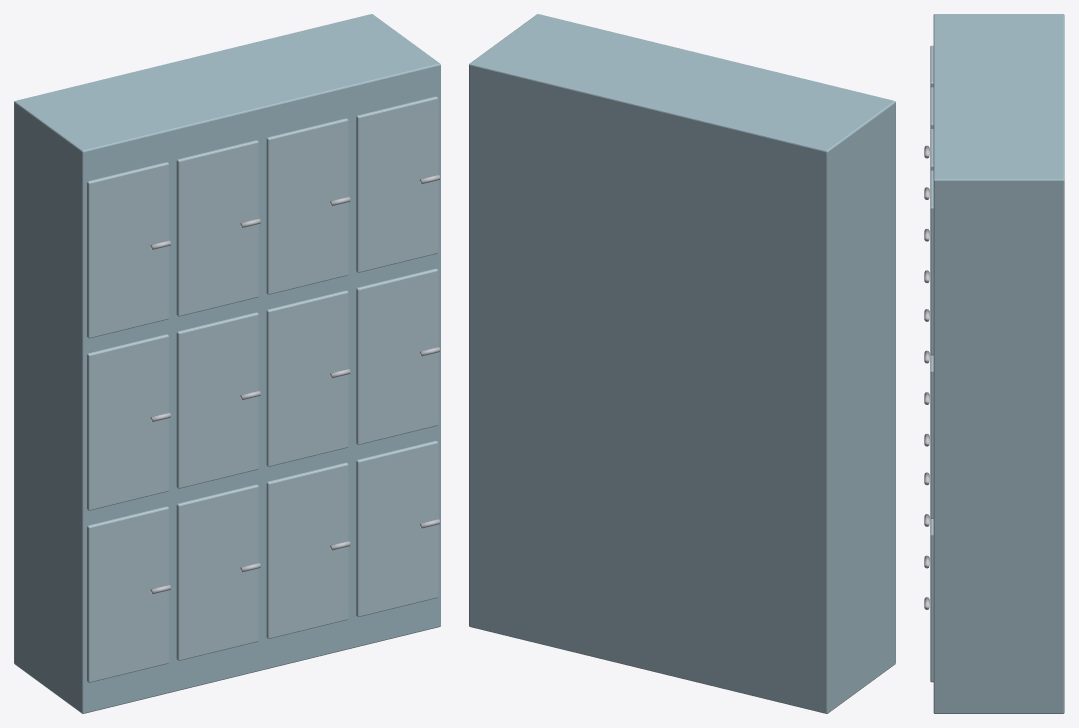
Rendered from student_lockers.glb.
3 renders of one model, left to right at view 1: azimuth 30°, elevation 25°; view 2: azimuth 150°, elevation 25°; view 3: azimuth 270°, elevation 25°, orthographic. The views are drawn at different scales.
Visible parts, largest first — view 1: locker_body, locker_door1_1, locker_door2_1, locker_door1_2, locker_door2_2, locker_door0_1, locker_door0_2, locker_door0_3, locker_door1_3, locker_door2_3, locker_door2_0, locker_door1_0 (+1 smaller); view 2: locker_body; view 3: locker_body, locker_door2_3, locker_door0_3, locker_door1_3.
Boxes of the visible parts, bbox=[...] form: locker_body: bbox=[14, 14, 440, 713]; locker_door1_1: bbox=[176, 312, 258, 488]; locker_door2_1: bbox=[176, 140, 258, 316]; locker_door1_2: bbox=[266, 290, 348, 466]; locker_door2_2: bbox=[266, 118, 348, 294]; locker_door0_1: bbox=[176, 484, 258, 660]; locker_door0_2: bbox=[266, 462, 348, 638]; locker_door0_3: bbox=[356, 441, 438, 617]; locker_door1_3: bbox=[356, 268, 438, 444]; locker_door2_3: bbox=[356, 96, 438, 272]; locker_door2_0: bbox=[87, 162, 168, 338]; locker_door1_0: bbox=[87, 334, 168, 510]; locker_body: bbox=[469, 14, 895, 713]; locker_body: bbox=[933, 14, 1064, 713]; locker_door2_3: bbox=[930, 170, 933, 355]; locker_door0_3: bbox=[930, 518, 933, 682]; locker_door1_3: bbox=[930, 355, 933, 518].
Bounding box in the file's own units: 1.2 × 1.8 × 0.428.
